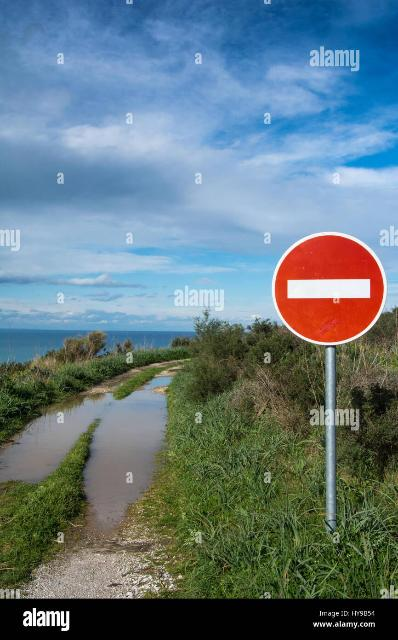B2: (272, 230, 388, 346)
